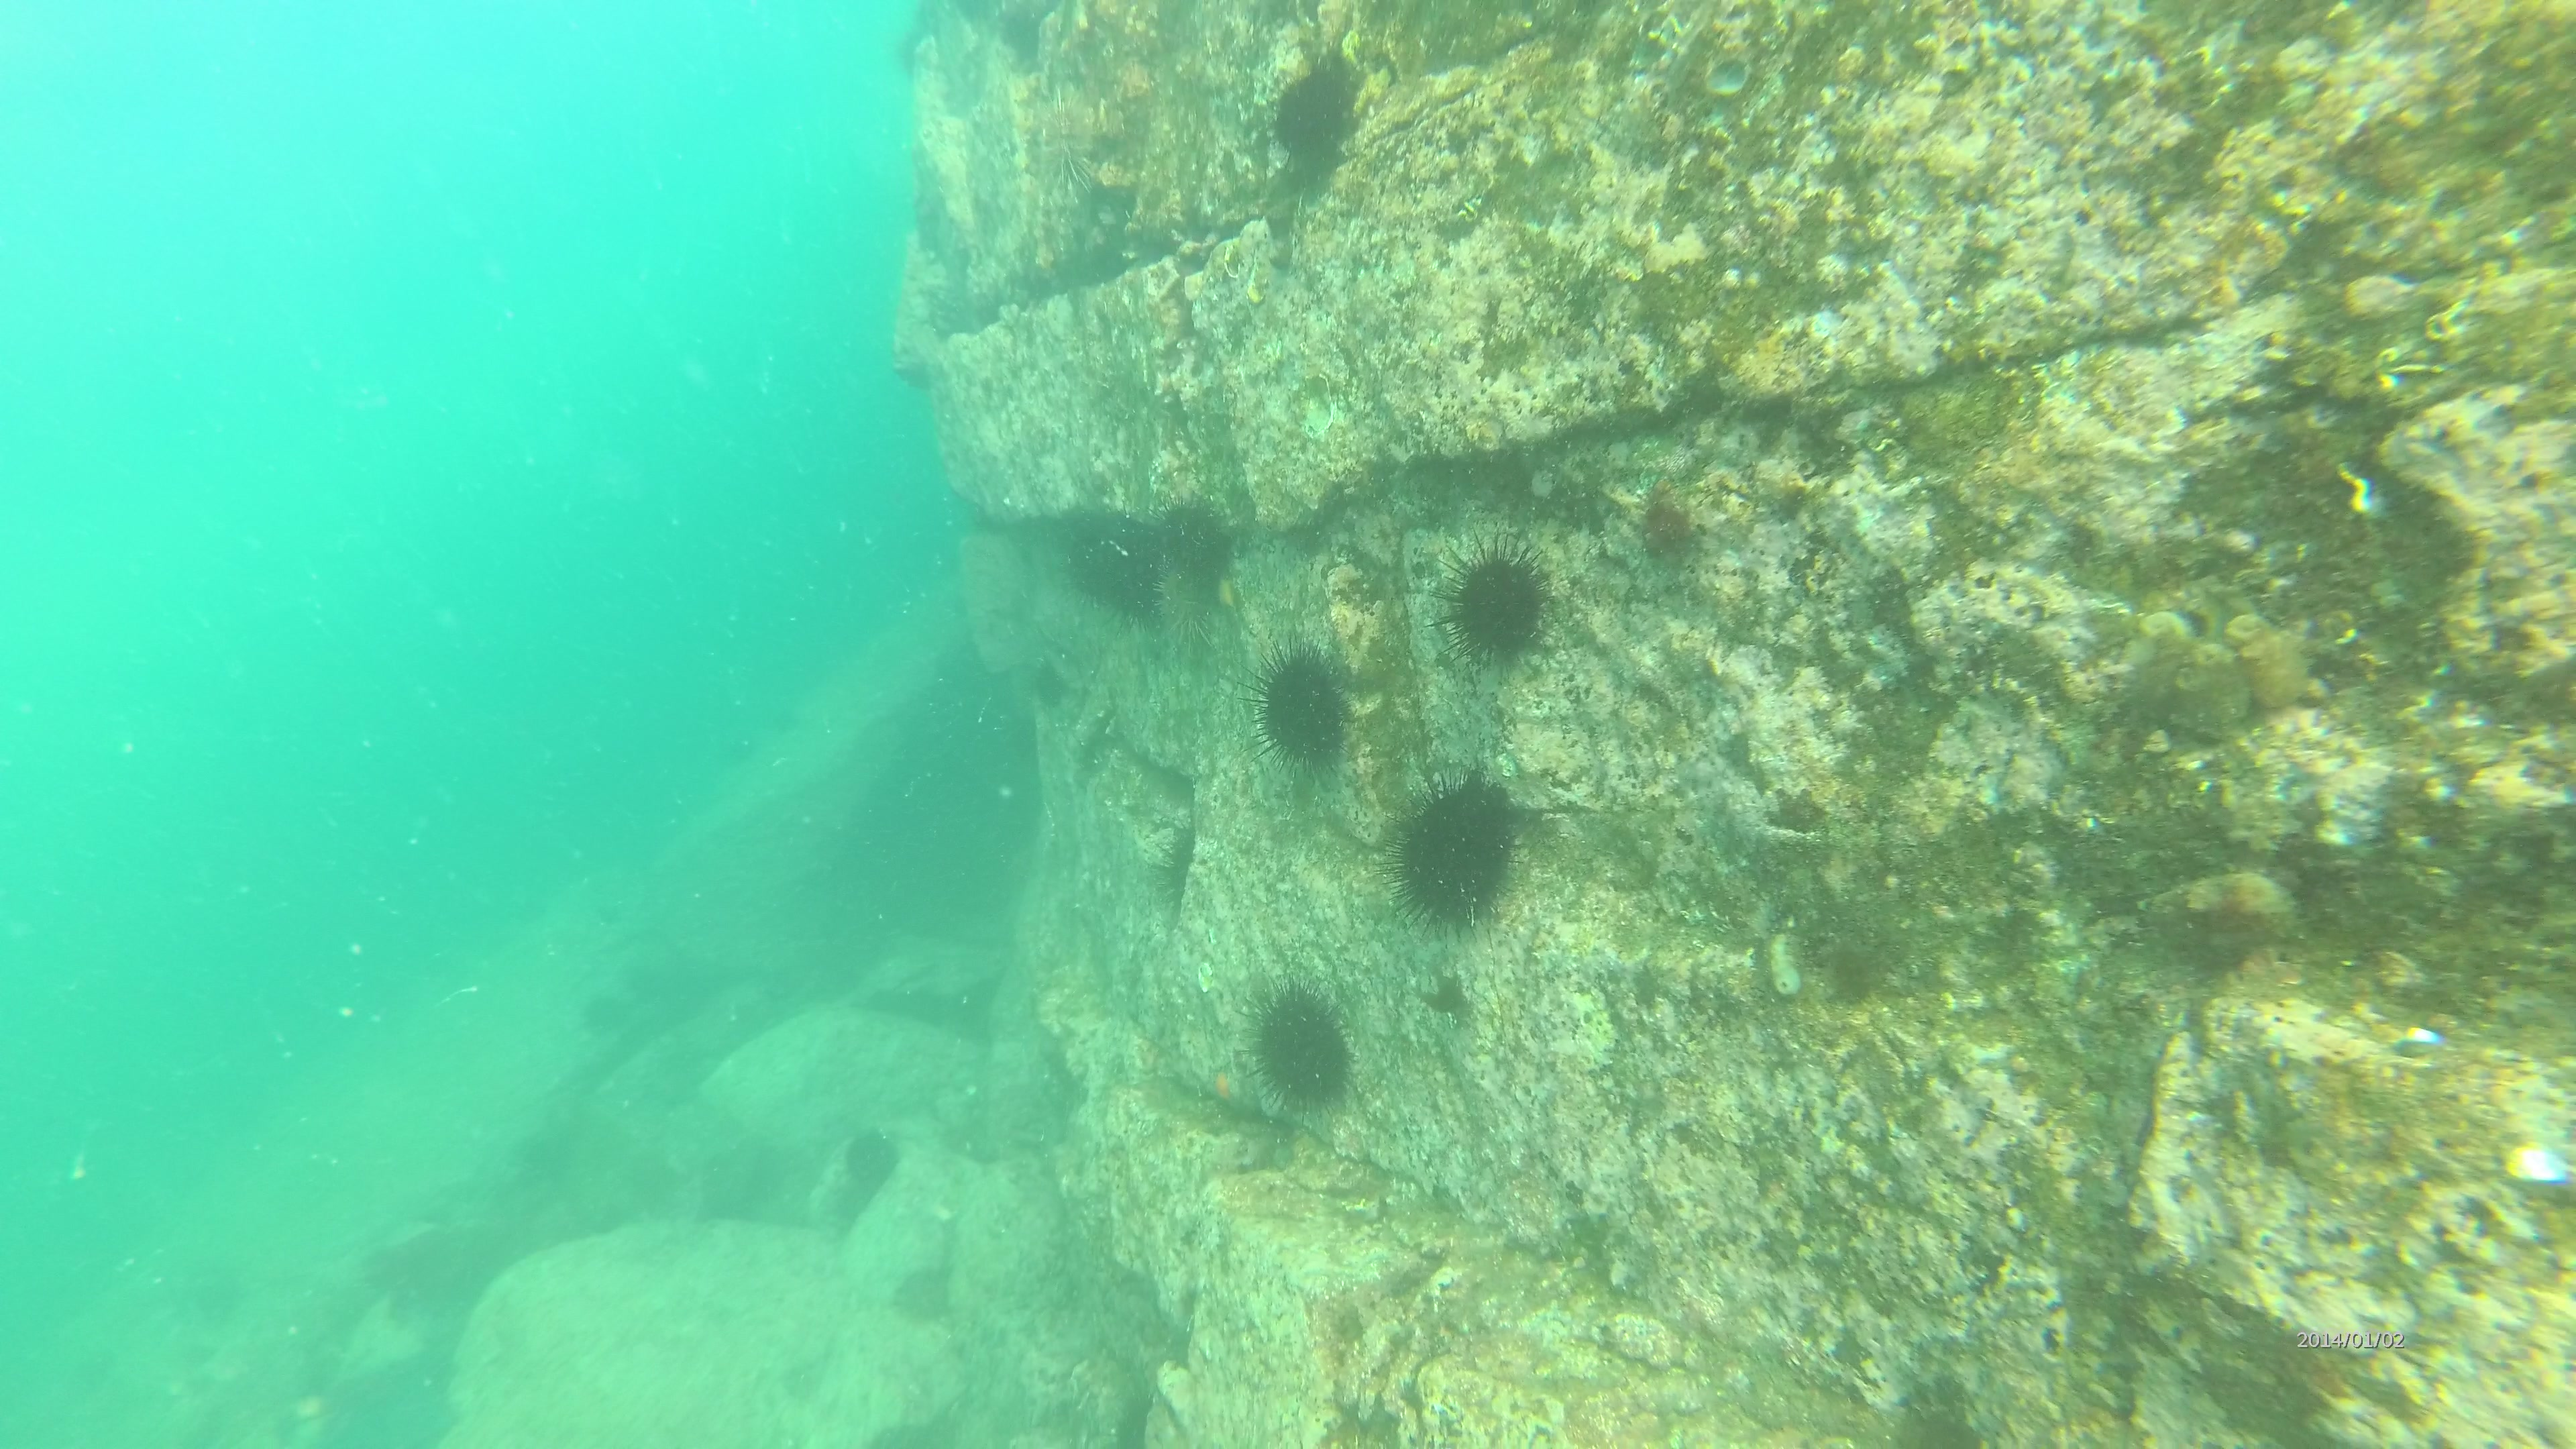echinus: (1384, 771, 1529, 931), (1242, 633, 1369, 773), (1253, 980, 1364, 1131), (1433, 536, 1548, 674), (1279, 64, 1359, 163), (1154, 494, 1242, 582), (1063, 522, 1154, 605), (1155, 552, 1214, 665)
